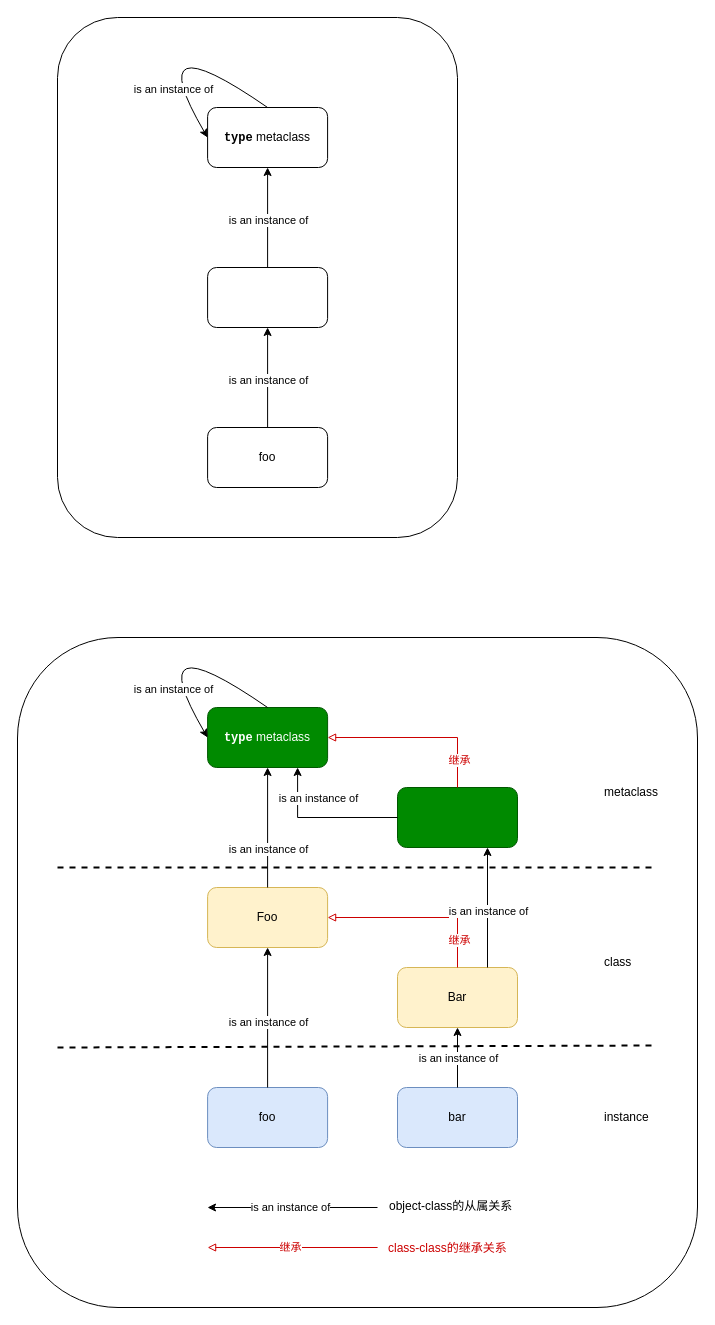
This 715x1325 diagram has some shape labels left out. Each missing label, with the centre of its shape:
class Foo: (x=267, y=297)
Meta: (x=457, y=817)
